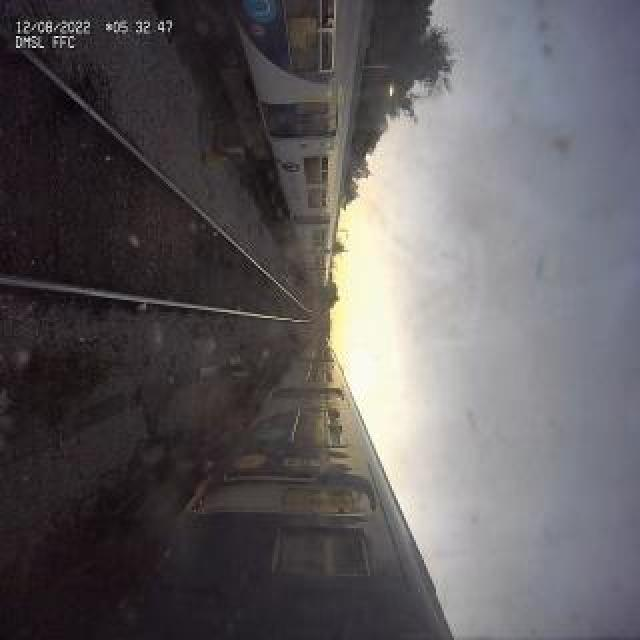Station-lights-ON: (388, 70, 398, 102)
